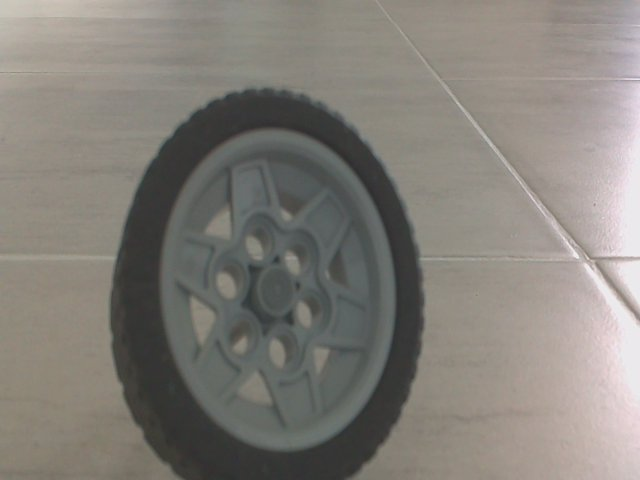Rad+Grau_lang: (105, 82, 431, 477)
